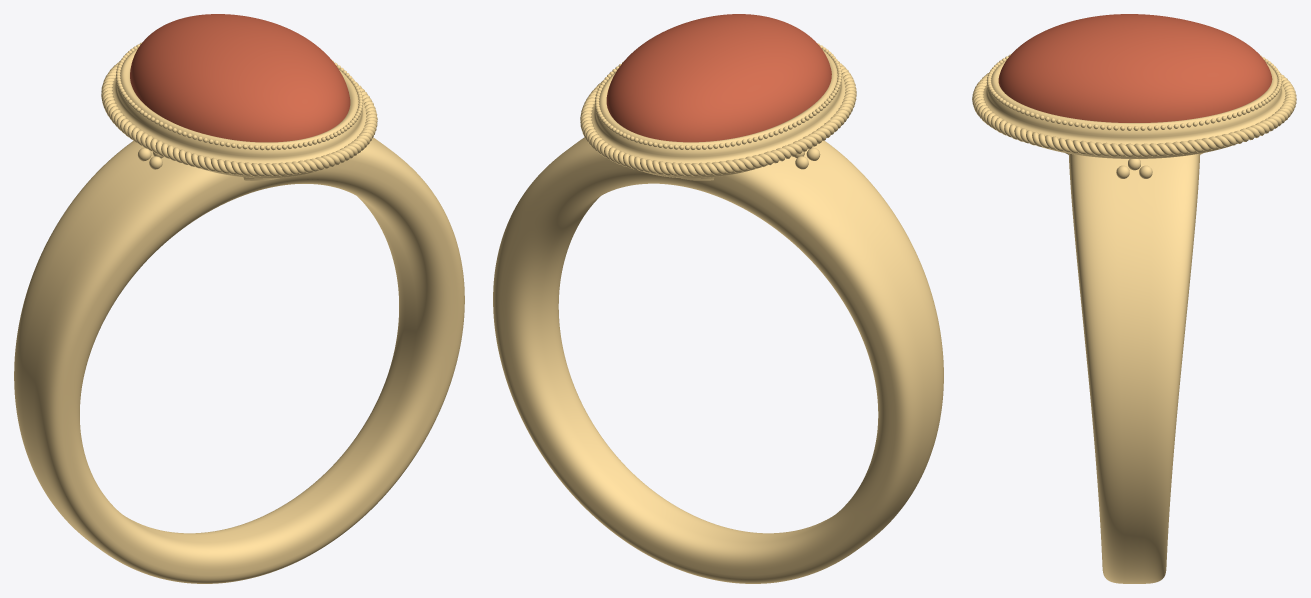
Rendered from vyoma-heritage-moonga.glb.
The picture shows the model from 3 angles, left to right: view 1: azimuth 30°, elevation 25°; view 2: azimuth 150°, elevation 25°; view 3: azimuth 270°, elevation 25°; orthographic projection.
Parts seen in each view (by area): view 1: shank, stone, metal; view 2: shank, stone, metal; view 3: shank, stone, metal.
Part boxes in pixels (x1=…): shank: x1=14, y1=137, x2=464, y2=583; stone: x1=130, y1=14, x2=350, y2=142; metal: x1=101, y1=42, x2=377, y2=180; shank: x1=493, y1=137, x2=943, y2=583; stone: x1=606, y1=14, x2=831, y2=142; metal: x1=580, y1=43, x2=856, y2=180; shank: x1=1069, y1=153, x2=1199, y2=583; stone: x1=998, y1=14, x2=1272, y2=122; metal: x1=972, y1=54, x2=1296, y2=178.
Bounding box in the file's own units: 2.14 × 2.58 × 1.43.
